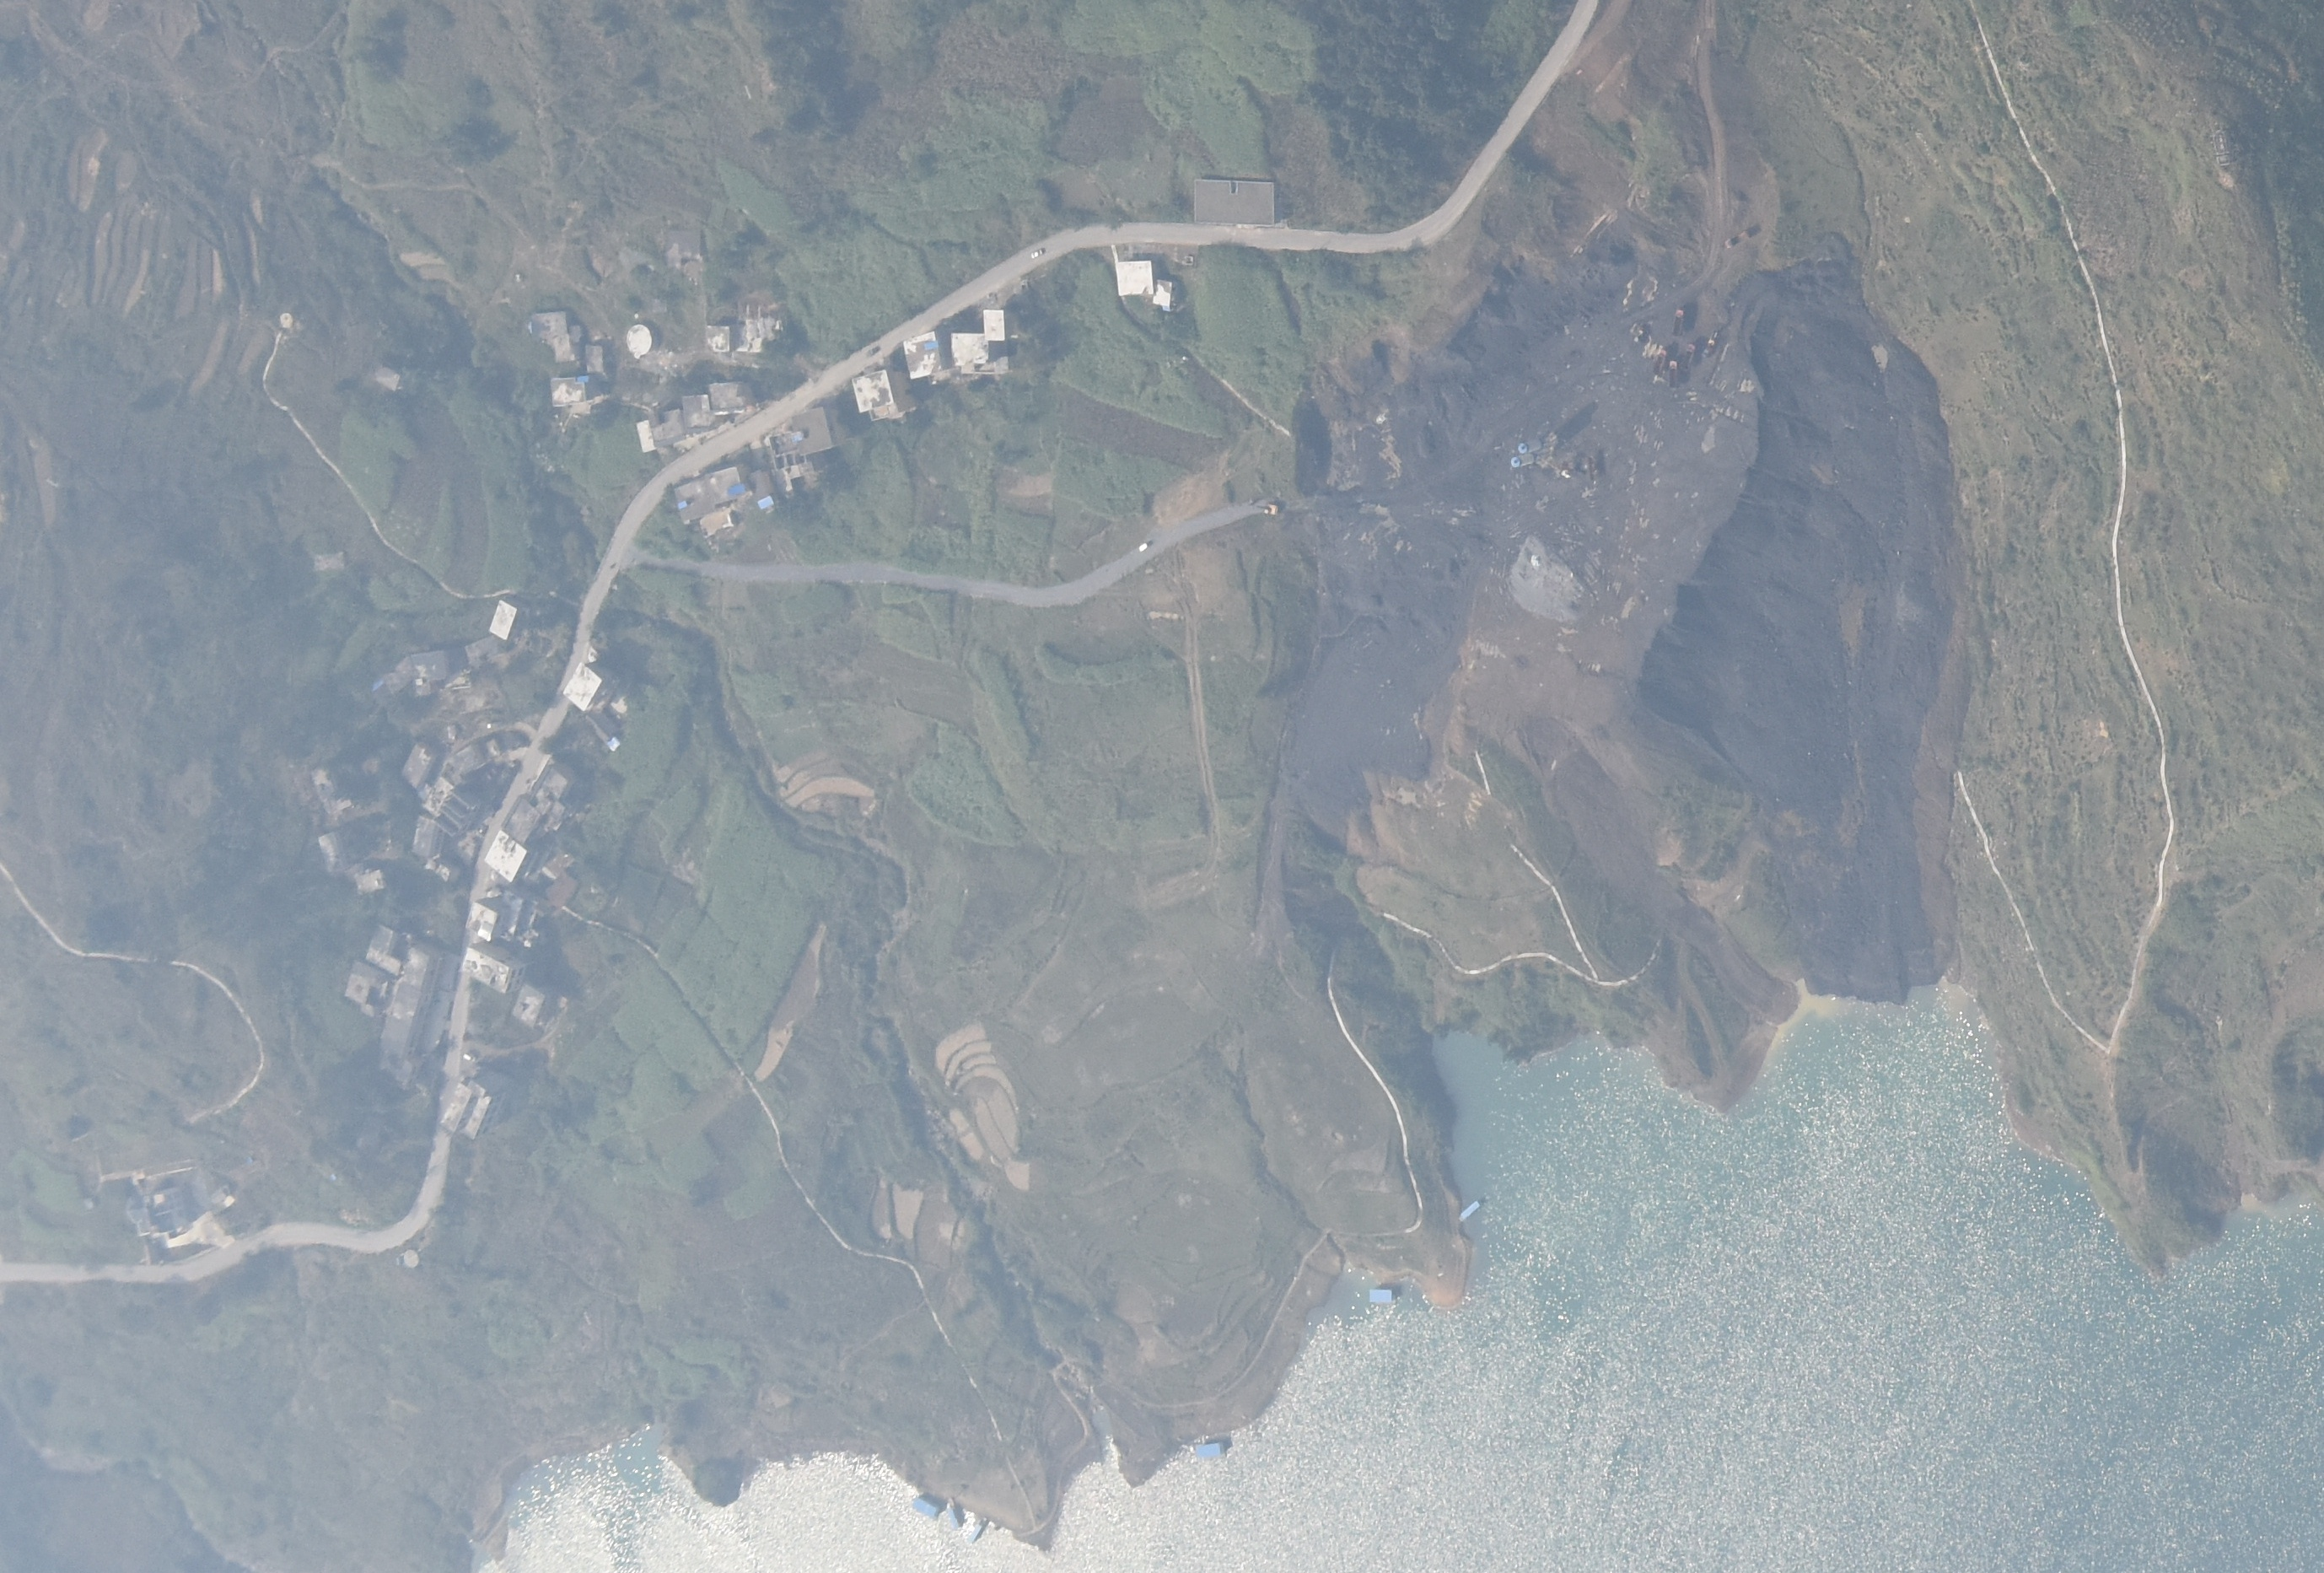building: (379, 946, 437, 1090), (495, 751, 577, 846), (663, 460, 751, 530), (441, 1057, 513, 1139), (1188, 172, 1278, 235), (521, 307, 609, 367), (560, 646, 625, 716), (125, 1178, 191, 1243), (465, 937, 537, 995), (465, 890, 541, 939), (848, 363, 900, 427), (551, 370, 604, 425), (425, 776, 476, 827), (402, 648, 449, 700), (904, 330, 946, 384), (344, 957, 390, 1006), (309, 762, 355, 811), (483, 832, 527, 881), (365, 925, 405, 978), (706, 377, 760, 416), (511, 981, 556, 1025), (1116, 249, 1158, 297), (648, 402, 686, 453), (946, 334, 990, 376), (488, 595, 521, 644), (402, 737, 434, 788), (316, 827, 351, 873), (412, 816, 441, 866), (683, 393, 720, 430), (370, 360, 411, 393), (351, 867, 391, 895), (706, 321, 734, 358), (983, 304, 1008, 346), (635, 418, 660, 456), (207, 1182, 235, 1204), (1155, 277, 1173, 305)
prefabricated-house: (913, 1496, 943, 1526), (1455, 1196, 1480, 1229), (1367, 1282, 1397, 1308), (1190, 1440, 1232, 1457), (946, 1505, 969, 1534), (969, 1517, 990, 1547), (727, 483, 751, 499), (757, 493, 774, 514), (922, 337, 943, 351), (674, 499, 692, 511), (1162, 304, 1173, 314)
quarry: (1283, 186, 1982, 1022)
vehicle: (1032, 246, 1050, 260)
well: (620, 316, 655, 362), (277, 307, 297, 328)
